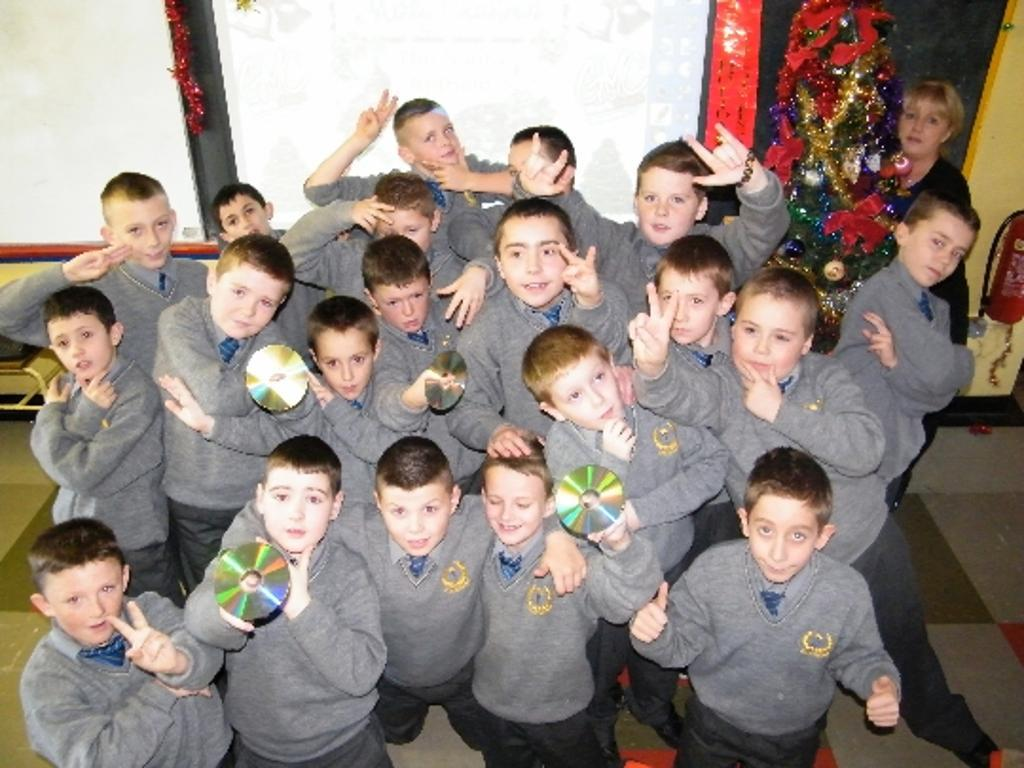face: (734, 296, 801, 383), (502, 225, 569, 306), (50, 573, 122, 646), (749, 507, 818, 583), (266, 472, 330, 552), (213, 262, 281, 337), (379, 488, 451, 555), (903, 217, 969, 286), (659, 270, 717, 345), (109, 205, 172, 271), (485, 477, 544, 546), (640, 168, 692, 244), (317, 330, 372, 401), (51, 319, 110, 378), (564, 368, 620, 429), (511, 142, 557, 205), (407, 117, 460, 170), (376, 278, 427, 332), (224, 196, 271, 252), (375, 204, 427, 254), (901, 97, 942, 160)
